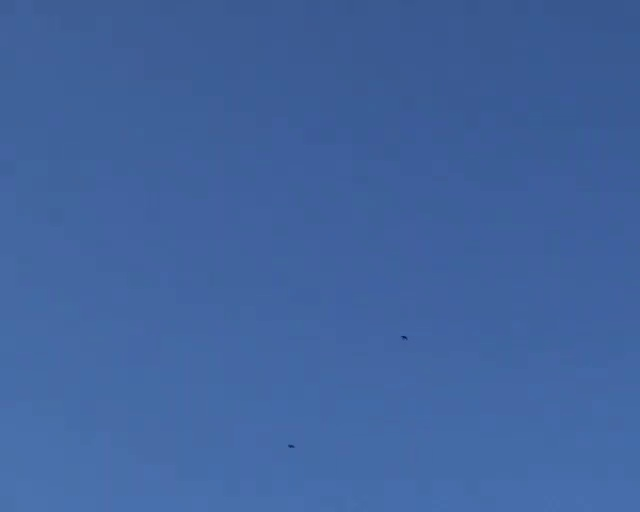BIRD: (288, 443, 296, 448)
